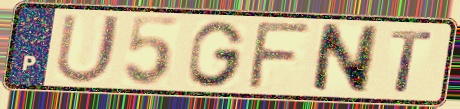5: (121, 13, 185, 89)
F: (243, 20, 317, 91)
G: (185, 19, 248, 90)
N: (308, 21, 383, 96)
T: (388, 28, 435, 95)
U: (52, 12, 125, 86)
